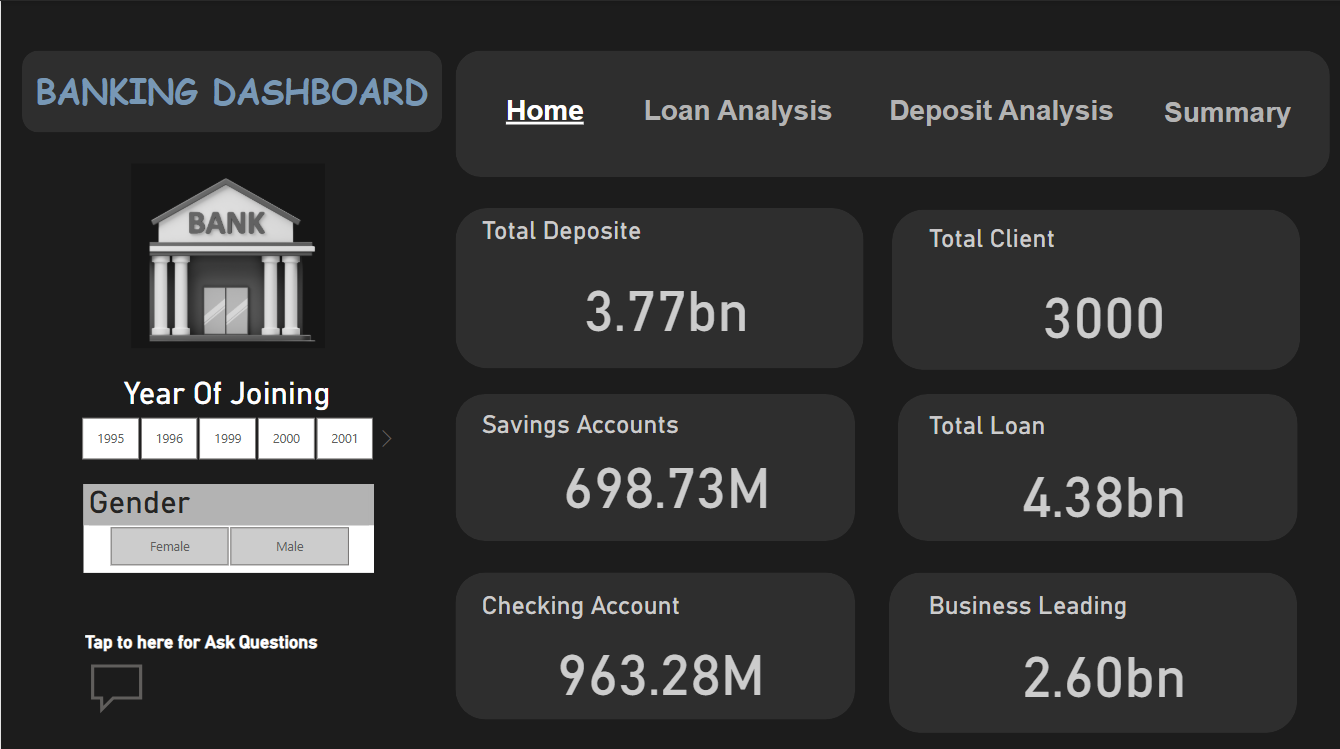

Layout of this report page (visuals, bound fields, positions):
{"tool":"powerbi","page":{"name":"Home","canvas":[1280,720],"ordinal":0},"visuals":[{"type":"shape","box":[432.7,47.2,832.8,120.4],"z":0},{"type":"textbox","box":[452.2,84.6,130.1,42.3],"z":1000},{"type":"textbox","box":[592.1,84.6,221.2,45.5],"z":2000},{"type":"textbox","box":[829.5,84.6,245.6,47.2],"z":3000},{"type":"textbox","box":[1075.1,86.2,185.4,45.5],"z":4000},{"type":"image","box":[118.7,141.5,195.2,203.3],"z":5000},{"type":"shape","box":[432.7,196.8,388.7,152.9],"z":6000},{"type":"shape","box":[432.7,374.1,380.6,139.9],"z":7000},{"type":"card","title":"Total Deposite","fields":{"Values":["Banking Relationship.Total Deposits"]},"box":[452.2,204.9,361.1,139.9],"z":8000},{"type":"card","title":"Savings Accounts ","fields":{"Values":["Sum(Banking_Clients.Saving Accounts)"]},"box":[452.2,388.7,361.1,109],"z":9000},{"type":"slicer","title":"Gender","fields":{"Values":["Banking_Clients.GenderId"]},"box":[78.1,460.3,276.5,84.6],"z":10000},{"type":"slicer","title":"Year Of Joining","fields":{"Values":["Banking_Clients.year of joining"]},"box":[52,356.2,326.9,87.8],"z":11000},{"type":"shape","box":[845.8,544.9,388.7,152.9],"z":12000},{"type":"shape","box":[849.1,198.4,388.7,152.9],"z":13000},{"type":"shape","box":[853.9,374.1,380.6,139.9],"z":14000},{"type":"shape","box":[432.7,544.9,380.6,139.9],"z":15000},{"type":"card","title":"Total Client ","fields":{"Values":["CountNonNull(Banking_Clients.Name)"]},"box":[878.3,211.5,343.2,139.9],"z":16000},{"type":"card","title":"Total Loan ","fields":{"Values":["Banking_Clients.total loan"]},"box":[878.3,390.4,343.2,123.6],"z":17000},{"type":"card","title":"Business Leading","fields":{"Values":["Sum(Banking_Clients.Business Lending)"]},"box":[878.3,561.2,343.2,123.6],"z":18000},{"type":"card","title":"Checking Account","fields":{"Values":["Sum(Banking_Clients.Checking Accounts)"]},"box":[452.2,561.2,349.7,118.7],"z":19000},{"type":"shape","box":[19.5,47.2,400.1,78.1],"z":20000},{"type":"textbox","box":[19.5,56.9,413.1,56.9],"z":21000},{"type":"actionButton","box":[1088.2,86.2,161,45.5],"z":22000},{"type":"actionButton","box":[829.5,78.1,245.6,52],"z":23000},{"type":"actionButton","box":[592.1,79.7,221.2,48.8],"z":24000},{"type":"actionButton","title":" Tap  to here for Ask Questions","box":[79.7,600.2,234.2,84.6],"z":25000}]}

Visuals, with their boxes in screenshot pixels (x1, y1, x2, y2), scaled from the page's 1280x720 canvas onto the 1340x749 screenshot:
shape: <bbox>453, 49, 1325, 174</bbox>
textbox: <bbox>473, 88, 610, 132</bbox>
textbox: <bbox>620, 88, 851, 135</bbox>
textbox: <bbox>868, 88, 1125, 137</bbox>
textbox: <bbox>1125, 90, 1320, 137</bbox>
image: <bbox>124, 147, 329, 359</bbox>
shape: <bbox>453, 205, 860, 364</bbox>
shape: <bbox>453, 389, 851, 535</bbox>
"Total Deposite" card: <bbox>473, 213, 851, 359</bbox>
"Savings Accounts " card: <bbox>473, 404, 851, 518</bbox>
"Gender" slicer: <bbox>82, 479, 371, 567</bbox>
"Year Of Joining" slicer: <bbox>54, 371, 397, 462</bbox>
shape: <bbox>885, 567, 1292, 726</bbox>
shape: <bbox>889, 206, 1296, 365</bbox>
shape: <bbox>894, 389, 1292, 535</bbox>
shape: <bbox>453, 567, 851, 712</bbox>
"Total Client " card: <bbox>919, 220, 1279, 366</bbox>
"Total Loan " card: <bbox>919, 406, 1279, 535</bbox>
"Business Leading" card: <bbox>919, 584, 1279, 712</bbox>
"Checking Account" card: <bbox>473, 584, 839, 707</bbox>
shape: <bbox>20, 49, 439, 130</bbox>
textbox: <bbox>20, 59, 453, 118</bbox>
actionButton: <bbox>1139, 90, 1308, 137</bbox>
actionButton: <bbox>868, 81, 1125, 135</bbox>
actionButton: <bbox>620, 83, 851, 134</bbox>
" Tap  to here for Ask Questions" actionButton: <bbox>83, 624, 329, 712</bbox>
